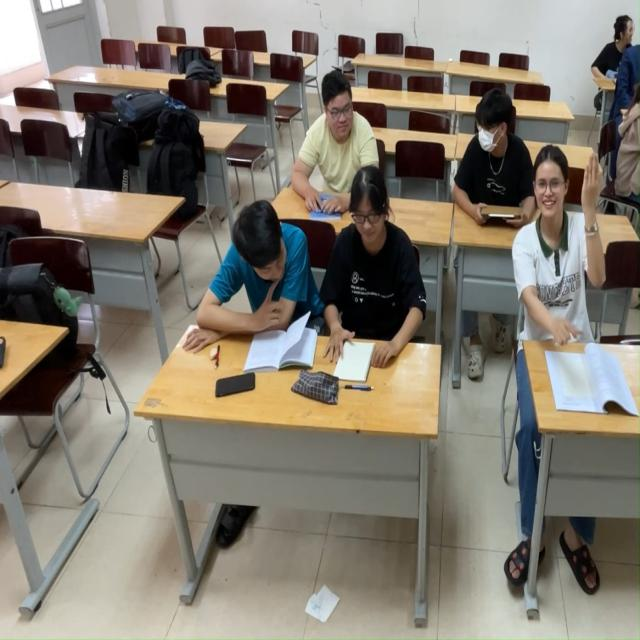raise_hand: (492, 129, 628, 419)
read: (312, 162, 448, 385), (196, 183, 323, 388)
